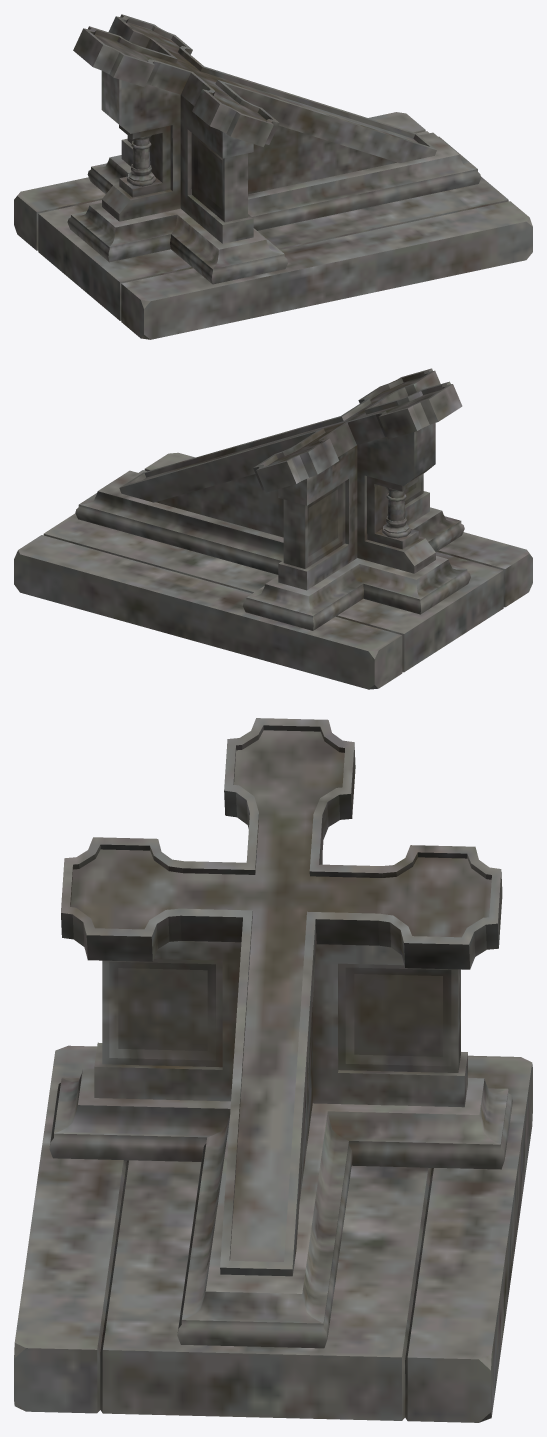
File: Cemetery_OBJ_Tomb_04.fbx
3 views of the same model, one above another, from view 1: azimuth 30°, elevation 25°; view 2: azimuth 150°, elevation 25°; view 3: azimuth 270°, elevation 25° (orthographic). The views are drawn at different scales.
Parts seen in each view (by area): view 1: Cemetery_OBJ_Tomb_04; view 2: Cemetery_OBJ_Tomb_04; view 3: Cemetery_OBJ_Tomb_04.
Part boxes in pixels (x1=…): Cemetery_OBJ_Tomb_04: x1=14, y1=14, x2=532, y2=339; Cemetery_OBJ_Tomb_04: x1=14, y1=368, x2=532, y2=689; Cemetery_OBJ_Tomb_04: x1=14, y1=718, x2=532, y2=1422.
Size of the model in its own units: 190 by 115 by 133.
1 material, 1 textured.
